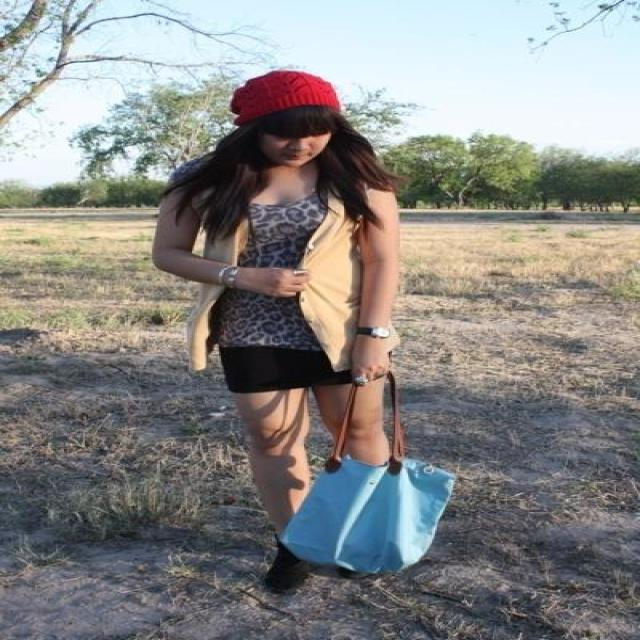bag: (280, 429, 453, 577)
hat: (230, 70, 338, 128)
jacket: (166, 200, 352, 369), (206, 192, 326, 353)
shoe: (258, 542, 376, 595)
skirt: (219, 344, 363, 392)
